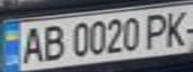0: (66, 19, 90, 58), (121, 14, 145, 52), (87, 18, 109, 56)
2: (106, 16, 127, 54)
A: (15, 24, 48, 65)
B: (36, 23, 69, 62)
K: (160, 7, 193, 47)
P: (139, 10, 172, 49)
